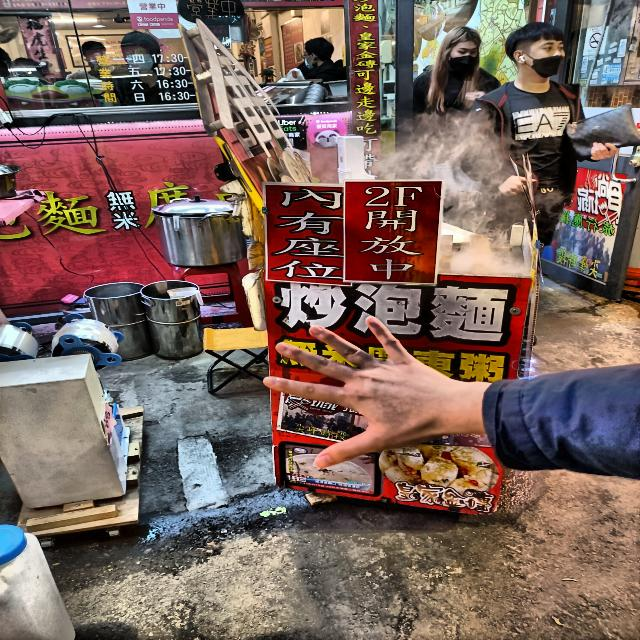not-gloved: (257, 308, 483, 480)
